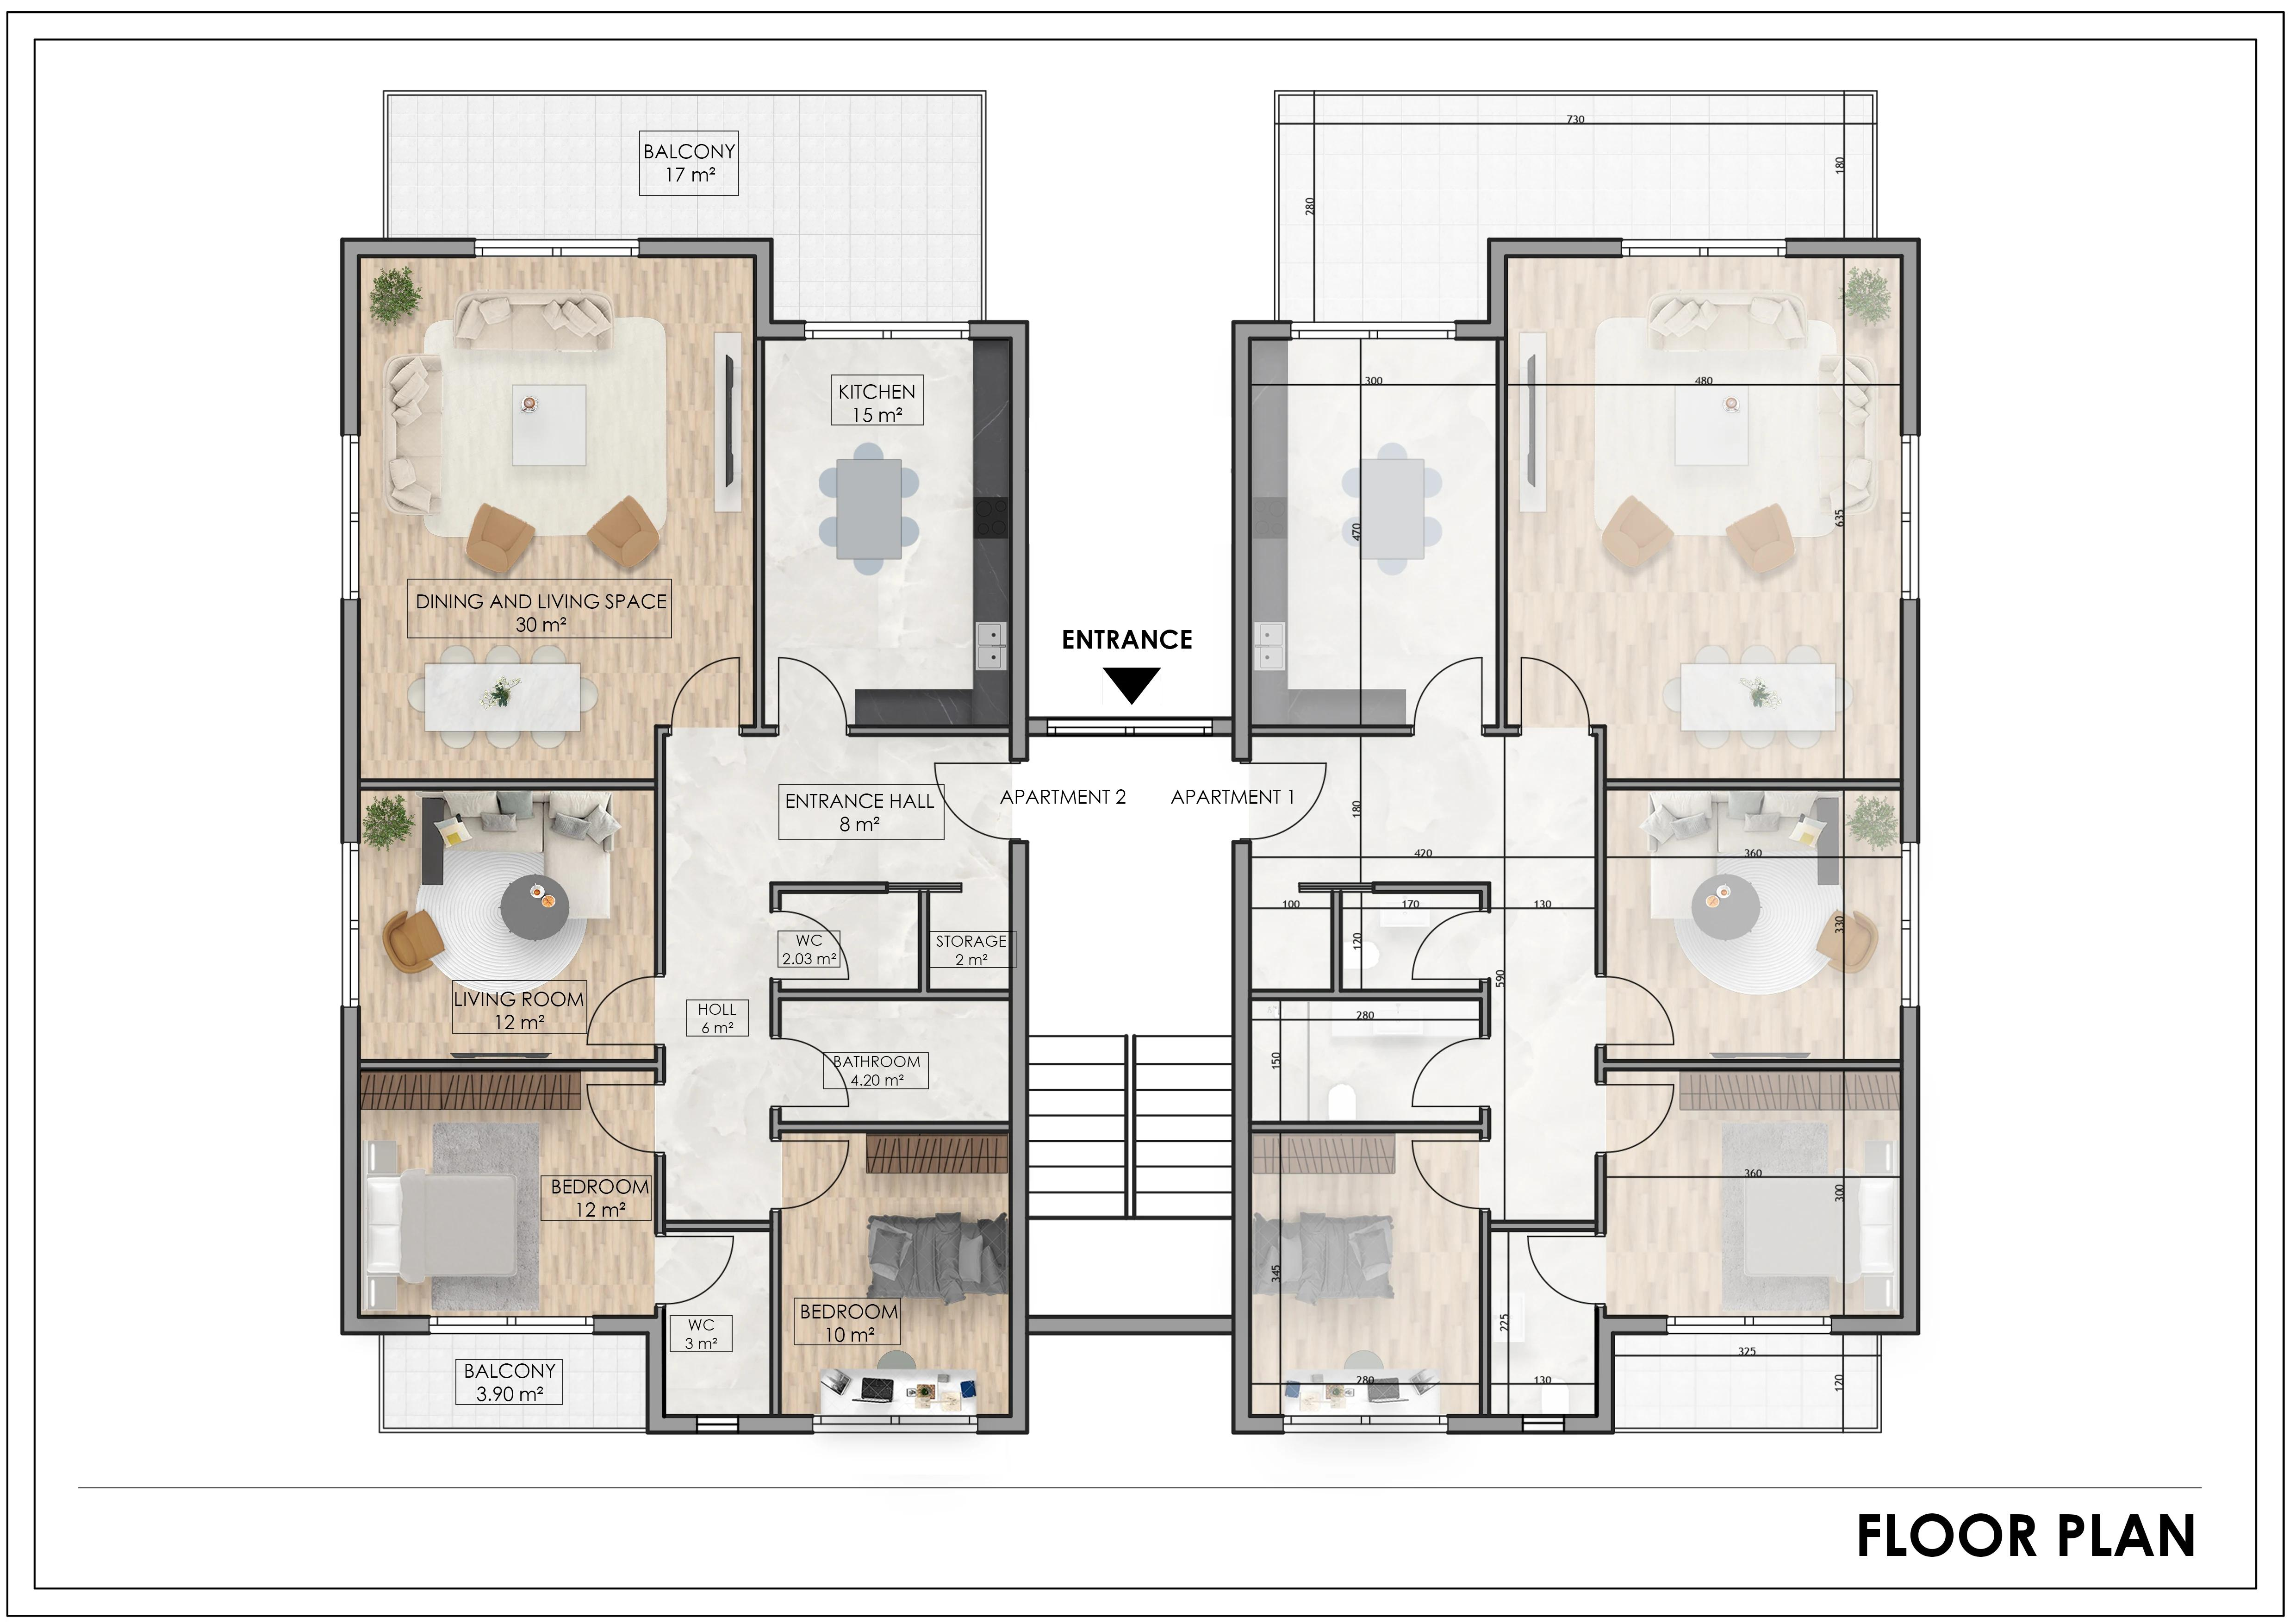room: (350, 248, 759, 784), (1500, 248, 1910, 772), (761, 330, 1019, 731), (1242, 332, 1497, 729), (1602, 780, 1910, 1063), (353, 782, 662, 1063), (1602, 1065, 1908, 1325), (353, 1065, 659, 1323), (1244, 1130, 1486, 1422), (776, 1127, 1017, 1420), (1245, 993, 1486, 1130), (776, 993, 1015, 1125), (1488, 1225, 1600, 1422), (775, 888, 922, 991)
